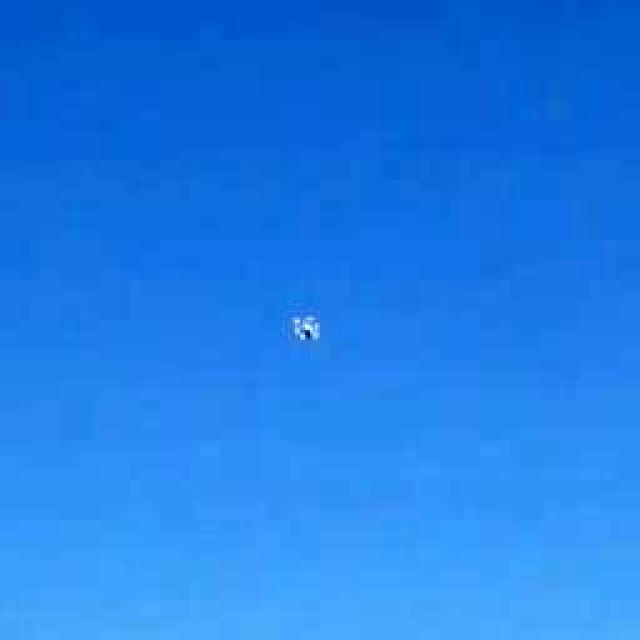bird: (264, 278, 351, 380)
